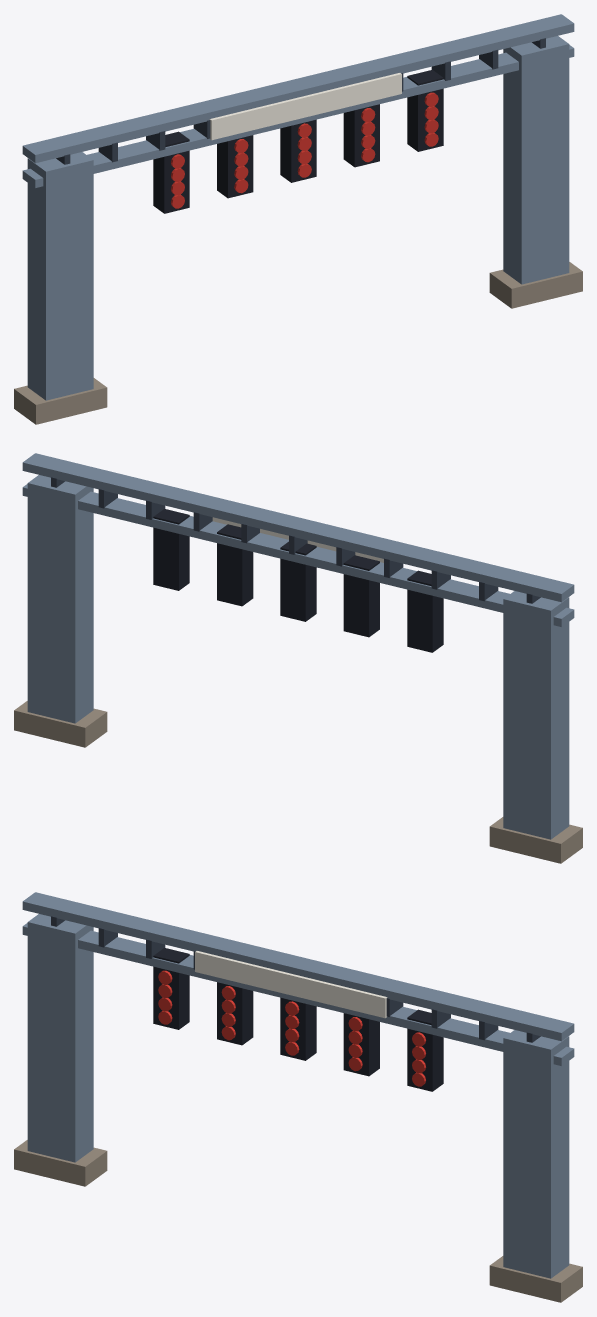
Rendered from startGantry.glb.
3 renders of one model, top to bottom at view 1: azimuth 30°, elevation 25°; view 2: azimuth 150°, elevation 25°; view 3: azimuth 330°, elevation 25°, orthographic.
Parts seen in each view (by area): view 1: startGantry_steel, startGantry_black, startGantry_concreteDark, startGantry_white, startGantry_steelDark, gantry_light_3, gantry_light_5, gantry_light_2, gantry_light_4, gantry_light_1; view 2: startGantry_steel, startGantry_black, startGantry_concreteDark, startGantry_steelDark; view 3: startGantry_steel, startGantry_black, startGantry_concreteDark, startGantry_white, startGantry_steelDark, gantry_light_3, gantry_light_1, gantry_light_2, gantry_light_4, gantry_light_5.
Part boxes in pixels (left/top/right/bottom): startGantry_steel: left=22, top=14, right=574, bottom=400; startGantry_black: left=153, top=70, right=443, bottom=213; startGantry_concreteDark: left=14, top=262, right=582, bottom=424; startGantry_white: left=209, top=73, right=401, bottom=140; startGantry_steelDark: left=56, top=38, right=545, bottom=164; gantry_light_3: left=297, top=123, right=311, bottom=177; gantry_light_5: left=424, top=92, right=438, bottom=146; gantry_light_2: left=234, top=139, right=248, bottom=193; gantry_light_4: left=361, top=108, right=375, bottom=162; gantry_light_1: left=171, top=154, right=184, bottom=208; startGantry_steel: left=22, top=453, right=574, bottom=839; startGantry_black: left=153, top=509, right=443, bottom=652; startGantry_concreteDark: left=14, top=701, right=582, bottom=863; startGantry_steelDark: left=51, top=477, right=540, bottom=603; startGantry_steel: left=22, top=892, right=574, bottom=1278; startGantry_black: left=153, top=948, right=443, bottom=1091; startGantry_concreteDark: left=14, top=1140, right=582, bottom=1302; startGantry_white: left=195, top=951, right=387, bottom=1018; startGantry_steelDark: left=51, top=916, right=540, bottom=1042; gantry_light_3: left=285, top=1001, right=299, bottom=1055; gantry_light_1: left=158, top=970, right=172, bottom=1024; gantry_light_2: left=221, top=986, right=235, bottom=1040; gantry_light_4: left=348, top=1017, right=362, bottom=1071; gantry_light_5: left=412, top=1032, right=425, bottom=1086.
Bounding box in the file's own units: 34.5 × 16 × 2.4.
